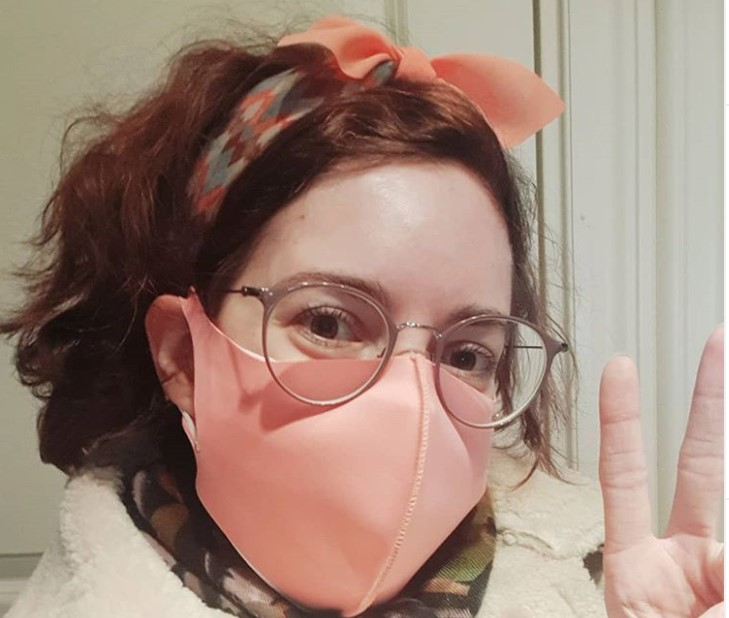face_with_mask: (149, 18, 569, 618)
